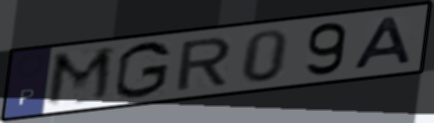0: (239, 28, 291, 84)
9: (304, 21, 349, 77)
A: (351, 14, 416, 72)
G: (112, 40, 174, 101)
M: (42, 44, 118, 110)
R: (173, 35, 235, 93)
